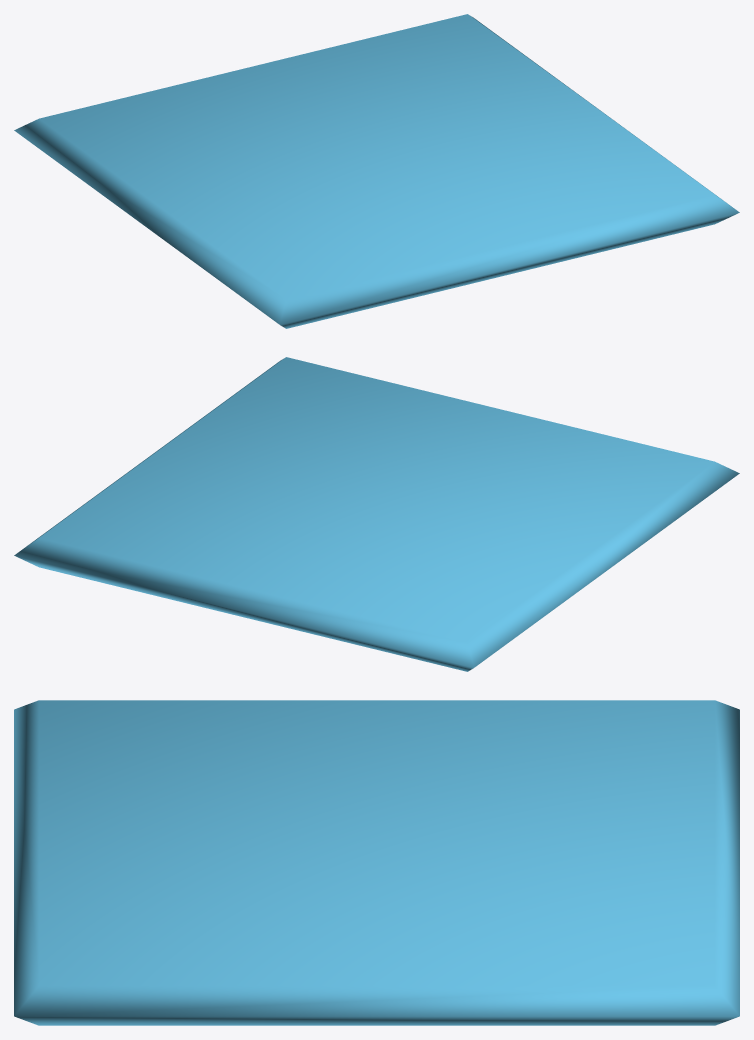
File: piadina_leggera_mid.fbx
The picture shows the model from 3 angles, top to bottom: view 1: azimuth 30°, elevation 25°; view 2: azimuth 150°, elevation 25°; view 3: azimuth 270°, elevation 25°; orthographic projection. The views are drawn at different scales.
Parts seen in each view (by area): view 1: leggeramid; view 2: leggeramid; view 3: leggeramid.
Boxes of the visible parts, box(x1,y1,x2,y2) form: leggeramid: box(14, 14, 739, 328); leggeramid: box(14, 357, 739, 671); leggeramid: box(14, 700, 739, 1025).
Size of the model in its own units: 215 by 13.06 by 215.
